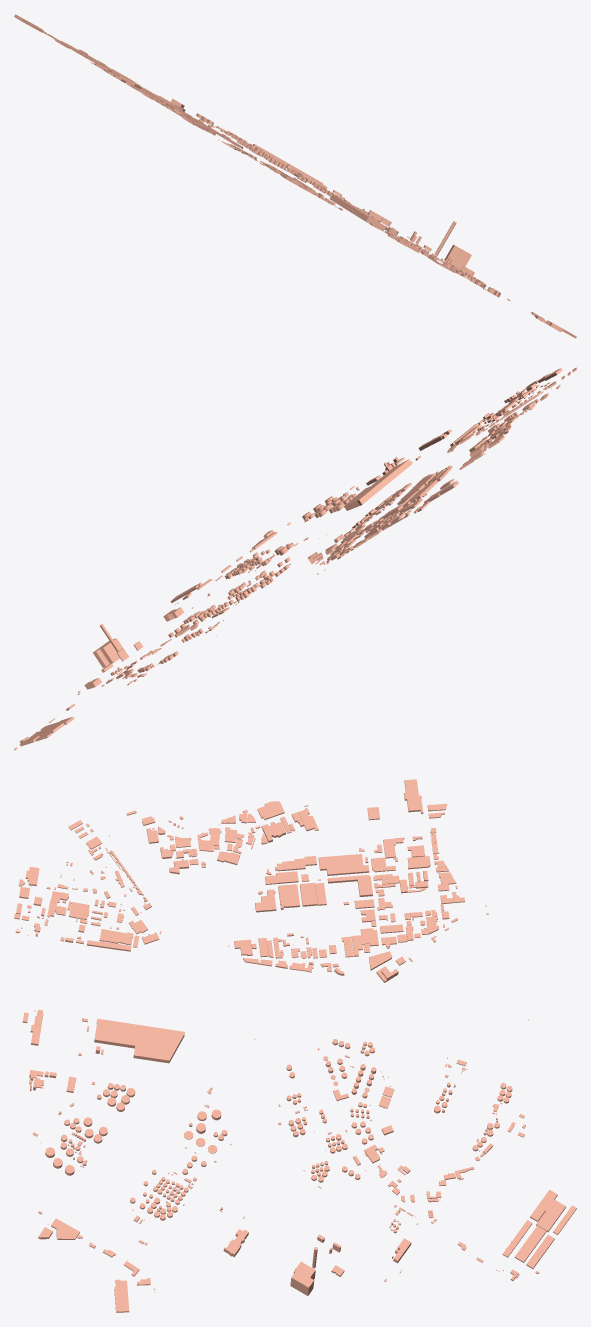
3 views of the same model, one above another, from view 1: azimuth 30°, elevation 25°; view 2: azimuth 150°, elevation 25°; view 3: azimuth 270°, elevation 25° (orthographic). The views are drawn at different scales.
Size of the model in its own units: 2186 by 1596 by 2494.
